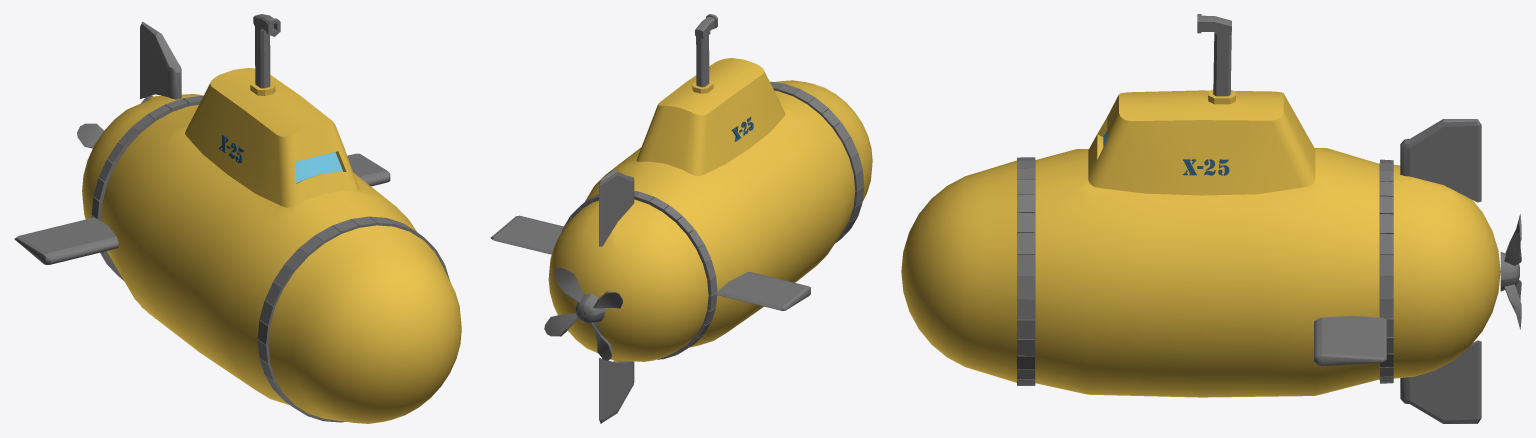
Rendered from submarine.gltf.
The picture shows the model from 3 angles, left to right: view 1: azimuth 30°, elevation 25°; view 2: azimuth 150°, elevation 25°; view 3: azimuth 270°, elevation 25°; orthographic projection. The views are drawn at different scales.
Visible parts, largest first — view 1: submarine, fins, rudder, screw; view 2: submarine, fins, rudder, screw; view 3: submarine, rudder, fins, screw.
Part boxes in pixels (x1=…): submarine: x1=82, y1=14, x2=461, y2=423; fins: x1=14, y1=153, x2=390, y2=264; rudder: x1=140, y1=21, x2=181, y2=308; screw: x1=77, y1=96, x2=152, y2=148; submarine: x1=548, y1=14, x2=872, y2=362; fins: x1=490, y1=215, x2=810, y2=310; rudder: x1=599, y1=170, x2=634, y2=423; screw: x1=544, y1=267, x2=622, y2=360; submarine: x1=901, y1=14, x2=1500, y2=397; rudder: x1=1400, y1=119, x2=1481, y2=423; fins: x1=1314, y1=316, x2=1386, y2=366; screw: x1=1500, y1=214, x2=1521, y2=329.
Size of the model in its own units: 3.58 by 3.78 by 5.21.
